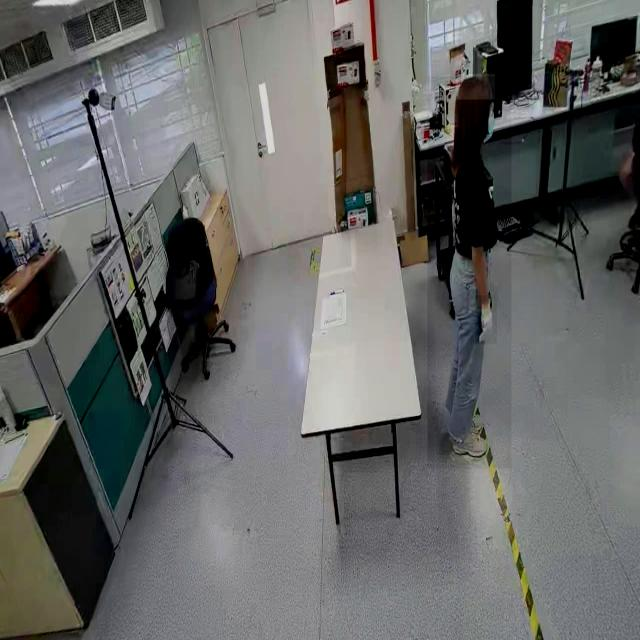face_mask: (480, 94, 498, 151)
hand_glove: (475, 295, 497, 345)
head_nohelmet: (456, 74, 495, 100)
person: (427, 77, 511, 470)
shoes: (445, 423, 492, 464)
